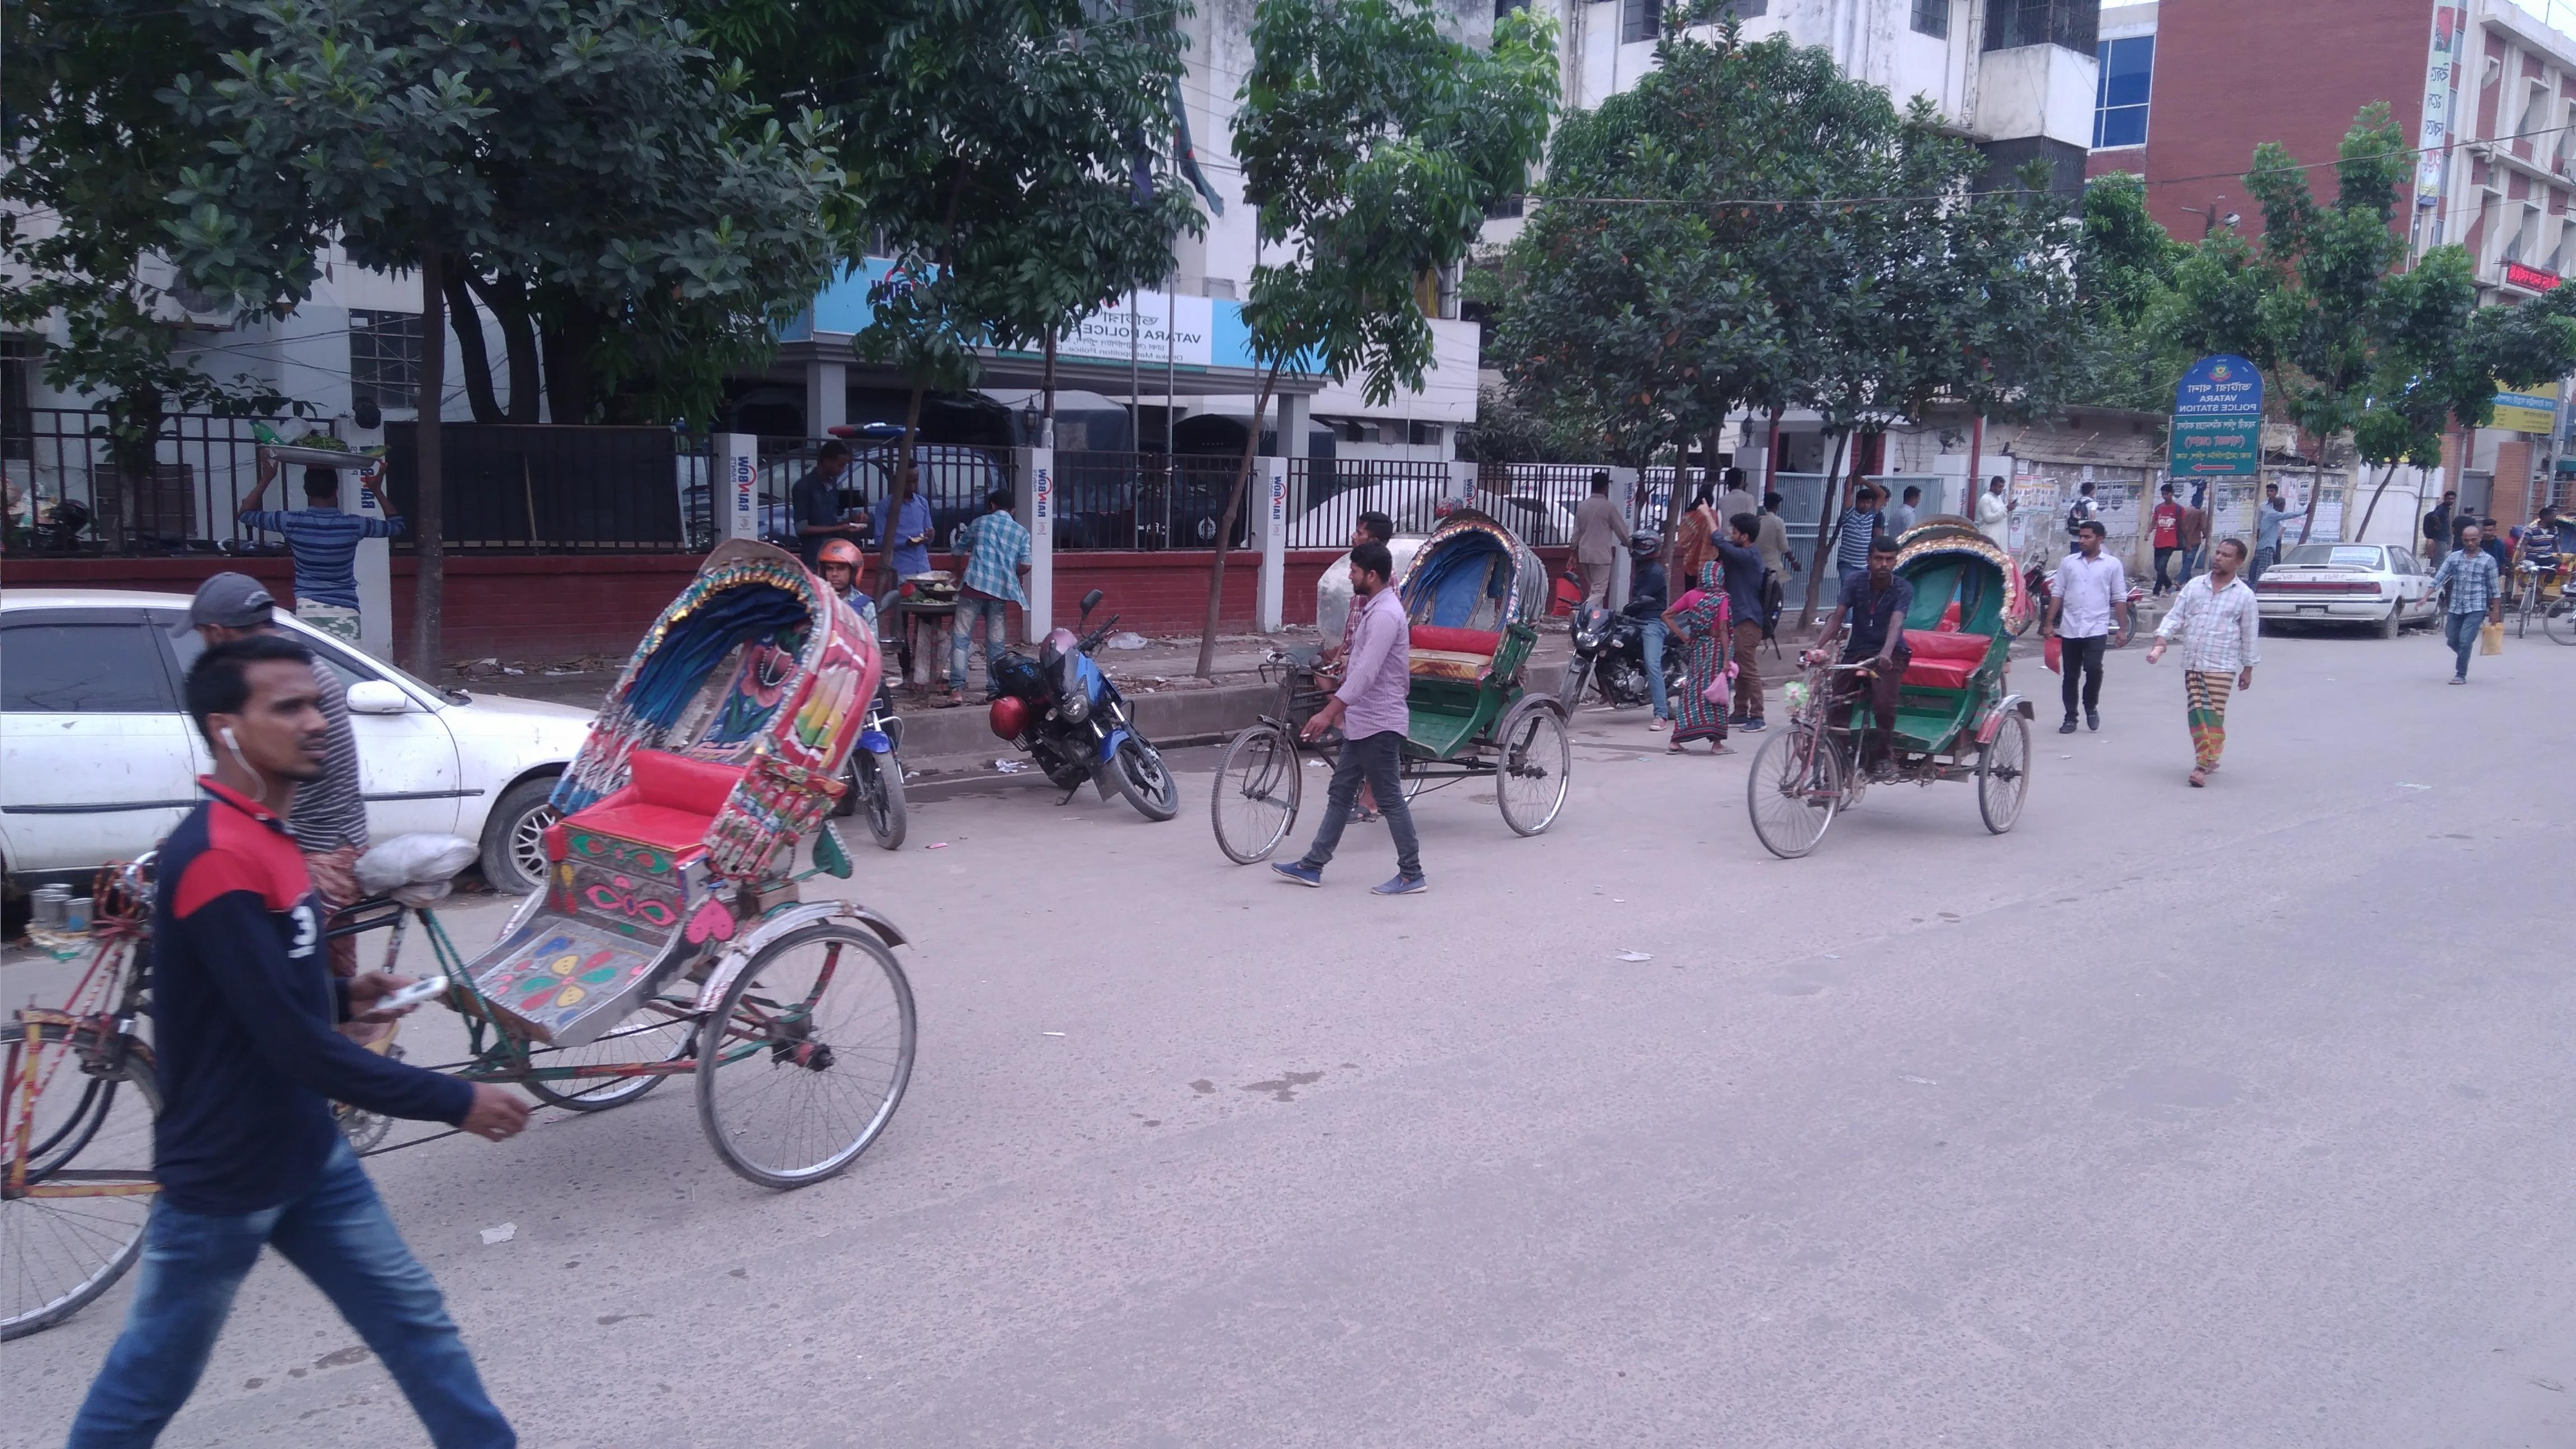Rickshaw: (2, 446, 915, 1219), (1230, 508, 1591, 879), (1750, 517, 2063, 869)
